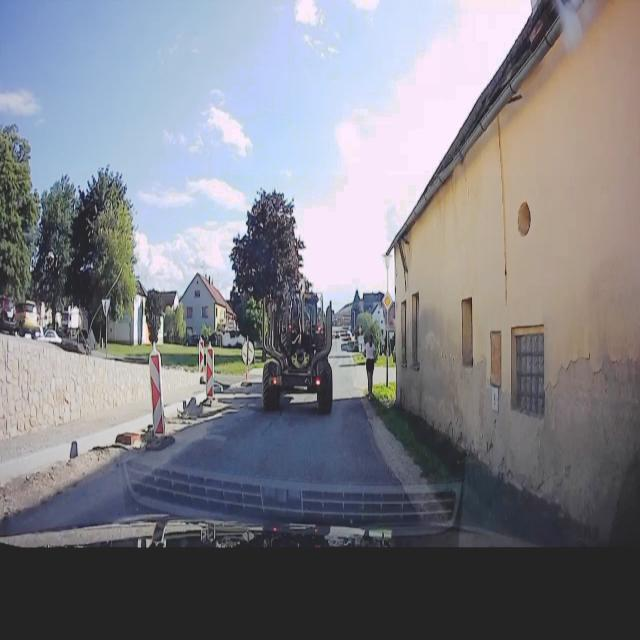Priority road: (381, 290, 395, 311)
